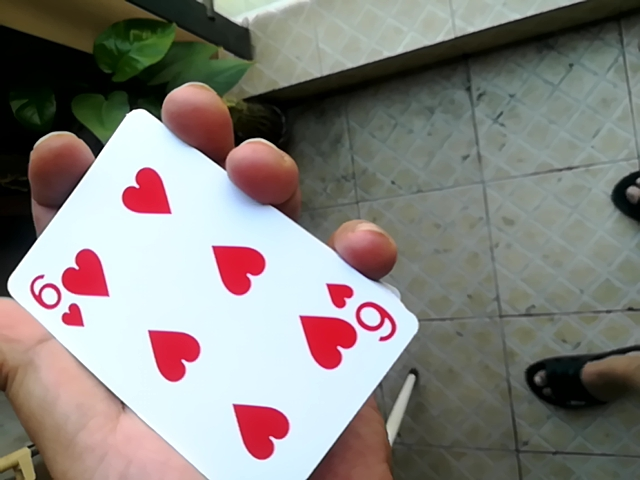hx 6: (6, 94, 417, 475)
